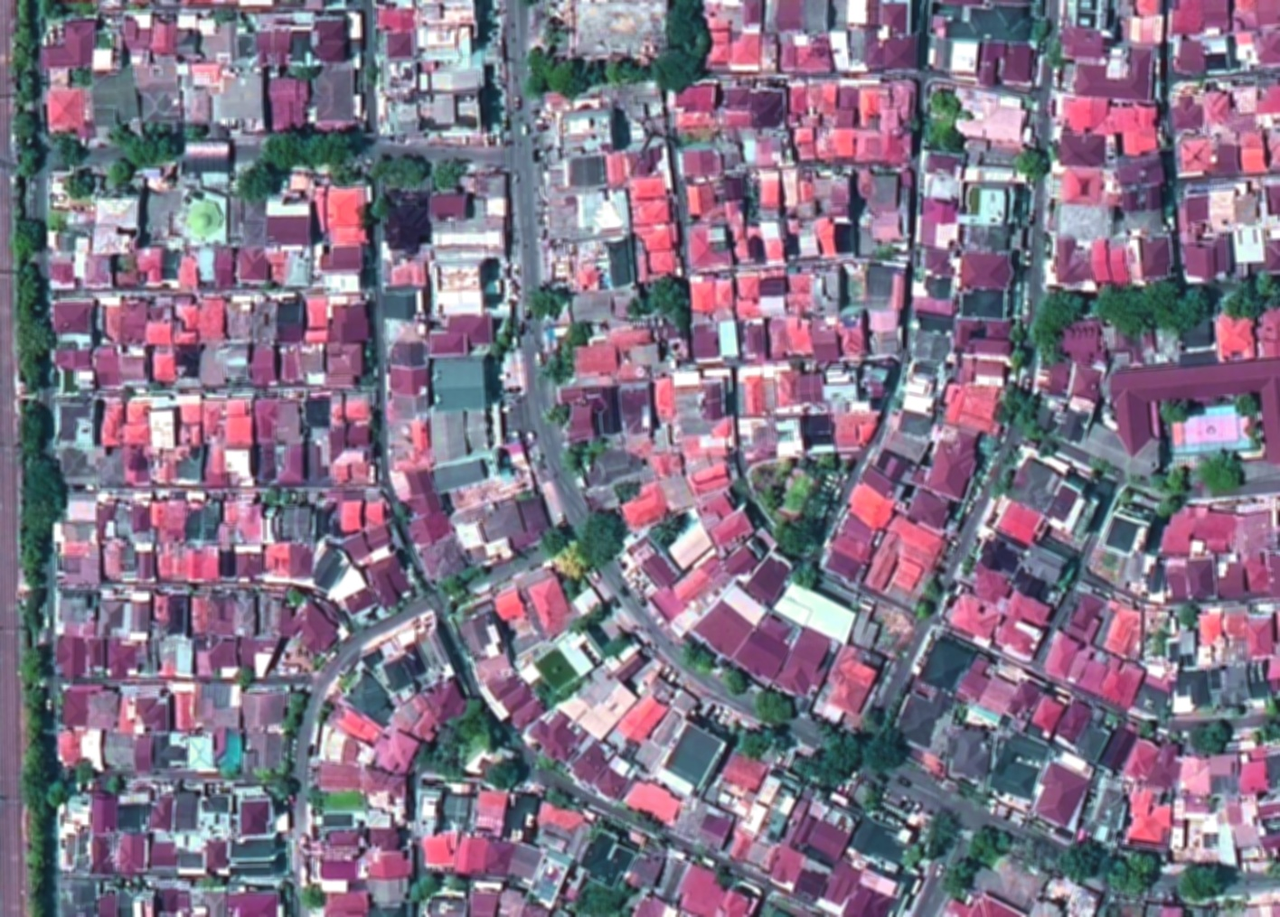building: (1109, 357, 1280, 464), (785, 74, 916, 166), (785, 75, 916, 166), (1168, 75, 1280, 180), (786, 77, 916, 166), (788, 80, 916, 165), (789, 80, 916, 165), (790, 80, 916, 165), (355, 614, 460, 709), (860, 510, 950, 610), (380, 667, 474, 758), (1074, 403, 1170, 491), (426, 170, 512, 264), (556, 660, 641, 745), (1058, 93, 1162, 156), (567, 0, 668, 64), (771, 576, 862, 646), (1083, 520, 1163, 598), (1027, 746, 1099, 832), (734, 768, 805, 855), (659, 714, 732, 794), (475, 661, 548, 738), (972, 845, 1051, 916), (983, 727, 1055, 804), (818, 507, 888, 586), (732, 610, 804, 686), (565, 737, 641, 809), (817, 641, 886, 720), (576, 434, 649, 507), (886, 677, 956, 753), (1172, 660, 1272, 713), (551, 94, 631, 158), (574, 820, 644, 893), (418, 828, 514, 881), (773, 625, 839, 702), (381, 408, 437, 496), (951, 85, 1032, 145), (1175, 129, 1268, 181), (788, 800, 858, 869), (1003, 445, 1071, 516), (847, 804, 918, 872), (917, 148, 964, 250), (705, 749, 771, 820), (1078, 771, 1138, 848), (452, 601, 515, 674), (914, 629, 980, 698), (1169, 807, 1244, 867), (525, 703, 592, 770), (1160, 503, 1239, 559), (924, 426, 982, 502), (813, 356, 874, 428), (53, 502, 103, 589), (931, 1, 1034, 43), (1074, 47, 1154, 101), (691, 597, 757, 662), (284, 594, 349, 660), (656, 508, 721, 573), (521, 566, 578, 639), (880, 512, 948, 572), (1093, 596, 1154, 662), (567, 236, 636, 294), (741, 545, 803, 609), (1177, 217, 1237, 283), (942, 588, 1007, 648), (1052, 479, 1111, 544), (132, 55, 185, 127), (1060, 0, 1121, 62), (1098, 497, 1157, 561), (84, 66, 142, 130), (669, 551, 731, 610), (625, 532, 684, 594), (417, 0, 475, 62), (343, 669, 405, 727), (942, 721, 997, 786), (614, 688, 672, 749), (388, 460, 443, 523), (1125, 783, 1177, 849), (298, 538, 356, 597), (672, 861, 733, 917), (414, 529, 473, 586), (896, 362, 940, 438), (841, 479, 900, 535), (401, 488, 455, 549), (850, 25, 920, 72), (212, 70, 264, 133), (623, 775, 686, 827), (431, 355, 488, 412), (553, 621, 609, 679), (615, 479, 674, 534), (362, 551, 416, 611), (1060, 584, 1111, 646), (525, 846, 574, 910), (309, 61, 356, 127), (943, 381, 1000, 435), (432, 261, 486, 318), (426, 313, 494, 358), (1071, 706, 1122, 765), (91, 192, 139, 254), (1025, 878, 1101, 917), (327, 699, 385, 750), (721, 83, 785, 129), (384, 191, 431, 253), (684, 456, 740, 508), (1097, 655, 1148, 712), (974, 530, 1029, 582), (425, 404, 471, 466), (668, 367, 709, 436), (671, 80, 724, 133), (304, 719, 357, 772), (1095, 718, 1143, 776), (179, 192, 230, 246), (990, 497, 1045, 547), (990, 612, 1045, 662), (816, 857, 866, 912), (118, 684, 171, 735), (1044, 469, 1091, 526), (1180, 751, 1239, 796), (228, 836, 287, 881), (43, 17, 95, 68), (1129, 674, 1179, 727), (720, 533, 773, 583), (721, 128, 787, 168), (650, 848, 697, 904), (1171, 35, 1234, 76), (429, 454, 492, 495), (1146, 738, 1191, 795), (325, 186, 367, 247), (964, 562, 1016, 611), (1018, 539, 1070, 588), (602, 637, 654, 686), (1037, 629, 1084, 683), (1054, 393, 1100, 448), (954, 319, 1014, 361), (977, 42, 1034, 86), (904, 485, 955, 534), (974, 670, 1022, 722), (477, 496, 527, 545), (720, 580, 771, 628), (719, 749, 771, 796), (499, 788, 542, 844), (174, 297, 225, 344), (268, 74, 310, 130), (326, 562, 373, 612), (686, 220, 732, 271), (1026, 687, 1071, 739), (180, 494, 225, 546), (242, 729, 287, 781), (625, 843, 670, 895), (194, 682, 241, 731), (1054, 202, 1113, 241), (266, 197, 312, 247), (693, 805, 739, 855), (145, 188, 186, 244), (1052, 696, 1097, 747), (1120, 734, 1164, 786), (955, 652, 998, 705), (102, 539, 155, 582), (534, 800, 588, 842), (779, 33, 834, 74), (736, 414, 781, 464), (669, 793, 713, 844), (706, 507, 756, 551), (764, 841, 808, 891), (1004, 673, 1047, 724), (737, 365, 778, 418), (240, 689, 290, 732), (959, 251, 1014, 290), (779, 34, 834, 73), (1003, 589, 1054, 631), (1170, 0, 1231, 35), (1056, 128, 1108, 169), (470, 786, 511, 838), (1061, 318, 1105, 366), (882, 422, 931, 465), (1095, 322, 1146, 363), (617, 381, 655, 436), (53, 589, 96, 637), (882, 423, 931, 465), (263, 541, 313, 582), (310, 13, 350, 64), (588, 762, 634, 806), (436, 788, 479, 835), (56, 636, 104, 678), (1076, 648, 1117, 697), (504, 840, 545, 889), (515, 488, 554, 539), (104, 298, 148, 343), (55, 400, 94, 449), (1236, 509, 1280, 552), (690, 275, 734, 318), (103, 638, 147, 681), (697, 487, 742, 529), (45, 87, 87, 132), (1115, 151, 1166, 188), (867, 35, 918, 72), (1145, 327, 1186, 373), (841, 882, 894, 917), (912, 277, 955, 320), (276, 501, 318, 545), (657, 470, 698, 515), (1216, 315, 1256, 361), (832, 411, 878, 451), (947, 894, 1027, 917), (230, 197, 266, 248), (412, 781, 444, 838), (329, 301, 371, 344), (325, 343, 366, 387), (858, 464, 903, 504), (199, 21, 239, 66), (1089, 238, 1128, 284), (384, 315, 427, 356), (234, 635, 275, 678), (1212, 556, 1250, 602), (182, 139, 233, 173), (648, 582, 689, 624), (136, 245, 178, 286), (148, 732, 190, 773), (1055, 238, 1092, 284), (490, 586, 530, 628), (149, 499, 187, 543), (757, 215, 789, 267), (255, 593, 290, 640), (154, 636, 193, 678), (909, 328, 953, 365), (56, 448, 101, 484), (57, 878, 98, 917), (152, 593, 189, 636), (732, 272, 765, 320), (749, 85, 785, 129), (576, 340, 620, 376), (836, 315, 871, 360), (674, 82, 720, 116), (599, 263, 638, 303), (1168, 92, 1206, 133), (1062, 167, 1104, 204), (331, 447, 373, 484), (800, 411, 836, 454), (867, 170, 902, 214), (226, 889, 281, 917), (960, 288, 1008, 320), (1139, 235, 1173, 280), (857, 865, 902, 899), (809, 318, 842, 364), (626, 143, 667, 180), (224, 398, 253, 450), (606, 238, 636, 288), (227, 836, 277, 866), (86, 687, 120, 731), (1102, 237, 1133, 285), (667, 602, 707, 639), (380, 735, 417, 775), (591, 190, 627, 231), (1186, 555, 1218, 601), (58, 684, 90, 730), (999, 43, 1034, 85), (385, 256, 427, 291), (1144, 896, 1214, 917), (1237, 82, 1280, 116), (1233, 0, 1280, 31), (608, 322, 655, 353), (1178, 137, 1216, 175), (792, 865, 830, 903), (1176, 670, 1213, 709), (1177, 318, 1218, 353), (462, 407, 493, 453), (60, 829, 91, 875), (102, 729, 135, 772), (1069, 363, 1104, 403), (53, 300, 94, 334), (388, 389, 429, 423), (565, 155, 606, 189), (238, 797, 272, 838), (680, 146, 722, 179), (255, 28, 291, 66), (194, 298, 225, 342), (964, 224, 1011, 253), (867, 263, 896, 310), (734, 272, 763, 319), (1183, 240, 1217, 280), (207, 637, 240, 678), (319, 243, 364, 273), (275, 298, 305, 343), (1120, 126, 1162, 158), (117, 345, 148, 388), (1234, 29, 1268, 68), (948, 40, 980, 81), (148, 16, 180, 57), (1239, 750, 1268, 795), (1247, 614, 1276, 659), (317, 763, 362, 792), (123, 597, 152, 642), (571, 291, 613, 322), (681, 432, 729, 459), (1233, 226, 1267, 264), (172, 788, 200, 834), (422, 889, 468, 917), (858, 361, 891, 400), (1243, 551, 1272, 595), (360, 766, 404, 795), (431, 66, 480, 92), (631, 196, 672, 227), (1208, 185, 1236, 230), (1065, 643, 1095, 685), (249, 299, 277, 344), (1172, 37, 1206, 74), (870, 210, 904, 247), (685, 181, 718, 219), (729, 33, 762, 71), (625, 340, 663, 373), (341, 586, 379, 619), (1121, 184, 1164, 213), (117, 833, 146, 876), (1164, 557, 1191, 603), (420, 0, 474, 23), (325, 889, 369, 917), (716, 889, 760, 917), (275, 443, 305, 484), (218, 729, 243, 778), (775, 416, 804, 458), (275, 399, 302, 444), (1180, 756, 1211, 795), (249, 344, 277, 387), (298, 343, 326, 386), (964, 163, 1024, 183), (652, 375, 677, 423), (598, 386, 622, 436), (369, 851, 410, 880), (1258, 797, 1280, 851), (186, 546, 219, 582), (153, 886, 191, 917), (1124, 210, 1166, 238), (785, 315, 813, 357), (123, 444, 151, 486), (690, 322, 720, 361), (91, 791, 117, 836), (709, 16, 731, 69), (207, 594, 234, 637), (388, 367, 428, 396), (383, 29, 418, 62), (232, 591, 257, 637), (640, 222, 677, 253), (759, 275, 786, 317), (148, 790, 175, 832), (566, 402, 595, 441), (376, 3, 415, 32), (209, 638, 238, 677), (305, 296, 329, 343), (172, 686, 196, 733), (1231, 818, 1264, 852), (881, 0, 913, 35), (96, 598, 124, 638), (79, 729, 105, 772), (430, 189, 466, 220), (740, 801, 771, 837), (182, 86, 212, 123), (775, 368, 802, 409), (94, 346, 121, 387), (367, 879, 408, 906), (629, 173, 667, 202), (1258, 801, 1280, 851), (722, 199, 747, 243), (787, 273, 813, 315), (199, 344, 225, 386), (360, 522, 395, 553), (649, 449, 684, 480), (420, 95, 456, 125), (254, 398, 278, 443), (1258, 308, 1280, 357), (971, 358, 1008, 387), (186, 734, 215, 771), (149, 408, 175, 449), (236, 503, 262, 544), (100, 401, 123, 447), (1130, 15, 1163, 47), (124, 401, 148, 445), (454, 519, 486, 552), (237, 248, 268, 282), (97, 448, 124, 487), (728, 827, 757, 863), (766, 317, 790, 360), (322, 790, 365, 814), (226, 301, 251, 342), (669, 686, 700, 719), (467, 887, 501, 917), (604, 150, 630, 189), (136, 247, 162, 286), (151, 346, 177, 385), (743, 320, 767, 362), (717, 317, 741, 359), (175, 343, 203, 379), (1234, 189, 1261, 226), (288, 29, 315, 66), (702, 379, 725, 422), (829, 29, 852, 72), (285, 248, 311, 286), (646, 248, 680, 277), (1204, 89, 1232, 124), (382, 292, 417, 320), (149, 835, 177, 870), (1255, 27, 1280, 66), (175, 448, 202, 484), (204, 443, 226, 487), (455, 93, 481, 130), (90, 835, 114, 875), (123, 16, 151, 50), (338, 499, 363, 537), (797, 370, 824, 405), (363, 497, 390, 532), (1245, 890, 1280, 917), (980, 188, 1006, 224), (1046, 360, 1072, 396), (117, 803, 148, 833), (870, 329, 902, 358), (389, 342, 426, 367), (224, 343, 249, 380), (277, 603, 302, 640), (823, 270, 843, 316), (200, 399, 223, 439), (1214, 141, 1241, 175), (60, 796, 90, 826), (758, 170, 781, 209), (855, 131, 883, 163), (65, 493, 97, 521), (802, 0, 829, 33), (85, 254, 111, 288), (781, 167, 802, 209), (214, 247, 235, 289), (57, 730, 82, 765), (735, 0, 764, 30), (483, 536, 514, 564), (729, 227, 753, 263), (776, 0, 803, 32), (816, 217, 837, 258), (96, 501, 118, 540), (54, 346, 91, 369), (923, 198, 957, 223), (901, 391, 935, 416), (1183, 794, 1217, 819), (367, 826, 401, 851), (1199, 611, 1223, 646), (394, 101, 421, 132), (344, 392, 371, 423), (319, 859, 357, 881), (797, 179, 817, 220), (499, 888, 527, 917), (224, 448, 251, 478), (305, 397, 331, 428), (868, 308, 900, 333), (860, 85, 879, 127), (280, 346, 301, 383), (177, 393, 202, 424), (797, 225, 820, 258), (326, 829, 361, 850), (925, 248, 953, 274), (257, 443, 276, 481), (1185, 194, 1209, 224), (195, 248, 216, 282), (60, 208, 92, 230), (346, 422, 372, 449), (236, 553, 263, 579), (1029, 897, 1064, 917), (117, 888, 141, 917), (205, 841, 228, 871), (813, 173, 831, 211), (152, 452, 174, 483), (176, 28, 201, 55), (146, 320, 173, 345), (48, 229, 76, 253), (924, 276, 953, 299), (49, 262, 74, 288), (1223, 613, 1247, 640), (119, 696, 136, 733), (1170, 819, 1189, 852), (388, 62, 413, 87), (178, 851, 205, 874), (835, 223, 855, 254), (1266, 746, 1280, 790), (833, 129, 855, 157), (1179, 629, 1196, 665), (722, 175, 745, 201), (577, 194, 594, 229), (746, 235, 767, 263), (204, 889, 225, 917), (330, 423, 345, 462), (131, 504, 151, 532), (202, 794, 230, 814), (1267, 128, 1280, 171), (1264, 239, 1280, 273), (1240, 796, 1258, 826), (1109, 501, 1132, 524), (760, 277, 786, 297), (784, 232, 801, 261), (366, 810, 393, 828), (847, 0, 867, 24), (1226, 799, 1243, 827), (859, 225, 873, 258), (1266, 184, 1280, 215), (1136, 0, 1162, 16), (222, 500, 238, 525), (331, 465, 350, 484), (926, 45, 942, 67), (390, 395, 414, 404), (1139, 522, 1151, 534), (643, 102, 651, 117), (136, 737, 139, 771), (390, 356, 400, 365), (357, 423, 368, 429), (361, 395, 368, 403), (332, 424, 339, 432)
tree: (793, 712, 879, 803), (1136, 271, 1223, 339), (565, 502, 638, 574), (442, 693, 512, 765), (1088, 276, 1162, 340), (645, 41, 712, 100), (1054, 830, 1116, 893), (854, 721, 916, 781), (661, 0, 718, 61), (413, 729, 474, 785), (1102, 845, 1164, 900), (230, 154, 293, 208), (298, 124, 367, 173), (18, 452, 66, 521), (123, 124, 188, 174), (1218, 276, 1274, 333), (1025, 308, 1074, 367), (640, 270, 695, 322), (5, 527, 56, 579), (1012, 830, 1065, 880), (1194, 449, 1248, 497), (921, 807, 964, 864), (964, 821, 1013, 871), (1039, 282, 1090, 330), (572, 880, 638, 917), (673, 634, 726, 680), (6, 261, 48, 319), (434, 563, 493, 603), (748, 460, 793, 512), (1149, 459, 1198, 506), (1187, 716, 1239, 760), (537, 344, 584, 392), (792, 482, 839, 530), (996, 383, 1043, 431), (1178, 863, 1235, 902), (369, 154, 432, 189), (263, 128, 314, 170), (928, 118, 974, 164), (13, 499, 60, 544), (534, 517, 581, 562), (18, 400, 54, 458), (940, 854, 981, 903), (13, 311, 56, 357), (545, 57, 593, 98), (574, 597, 622, 638), (713, 658, 757, 702), (550, 542, 593, 587), (1010, 142, 1054, 184), (11, 212, 46, 264), (278, 685, 312, 737), (775, 520, 824, 556), (404, 867, 446, 909), (539, 783, 589, 818), (527, 747, 573, 784), (649, 510, 691, 550), (737, 725, 785, 760), (564, 437, 611, 472), (755, 688, 798, 726), (101, 153, 141, 193), (19, 701, 56, 742), (528, 284, 569, 321), (592, 58, 647, 85), (485, 757, 528, 791), (18, 349, 51, 392), (429, 156, 469, 191), (302, 783, 341, 818), (22, 737, 56, 777), (7, 39, 40, 79), (597, 628, 641, 658), (268, 770, 304, 806), (519, 66, 554, 103), (21, 645, 52, 686), (41, 775, 76, 811), (540, 16, 574, 52), (62, 169, 96, 204), (106, 120, 141, 154), (666, 302, 699, 336), (27, 825, 53, 867), (68, 757, 101, 790), (385, 495, 418, 528), (930, 86, 962, 120), (488, 327, 519, 362), (1152, 490, 1187, 521), (23, 770, 53, 806), (529, 678, 561, 711), (1005, 341, 1037, 374), (10, 107, 41, 141), (230, 662, 262, 694), (623, 292, 656, 323), (15, 70, 41, 109), (558, 321, 594, 349), (551, 678, 586, 706), (1159, 398, 1194, 426), (16, 142, 43, 178), (613, 477, 646, 506), (792, 560, 822, 590), (808, 451, 845, 475), (860, 782, 886, 816), (1255, 273, 1280, 308), (544, 399, 574, 428), (299, 883, 330, 911), (861, 705, 889, 736), (438, 872, 475, 895), (14, 16, 39, 50), (255, 763, 295, 784), (207, 1, 241, 25), (1021, 418, 1050, 446), (1029, 16, 1056, 46), (367, 192, 394, 221), (1233, 393, 1263, 419), (328, 164, 363, 186), (199, 868, 231, 892), (40, 0, 73, 23), (528, 47, 556, 74), (15, 0, 43, 26), (286, 63, 322, 83), (1090, 457, 1122, 479), (26, 800, 53, 826), (1007, 321, 1033, 348), (21, 566, 48, 591), (913, 597, 938, 624), (924, 571, 946, 601), (24, 685, 49, 711), (1230, 696, 1256, 721), (875, 241, 904, 263), (1003, 446, 1028, 471), (283, 584, 307, 610), (1257, 718, 1280, 745), (992, 470, 1014, 498), (66, 0, 100, 18), (1048, 37, 1067, 69), (22, 608, 44, 635), (955, 779, 982, 801), (28, 862, 47, 892), (904, 842, 925, 869), (1246, 424, 1267, 451), (316, 699, 337, 725), (1099, 899, 1129, 917), (68, 67, 92, 89), (183, 123, 211, 141), (1177, 606, 1201, 627), (564, 577, 584, 602), (27, 894, 48, 917), (264, 487, 289, 506), (106, 773, 127, 795), (960, 555, 978, 579), (1139, 720, 1158, 739), (1037, 441, 1057, 458), (1121, 487, 1138, 504), (1050, 140, 1063, 162), (1127, 474, 1149, 487), (1268, 857, 1280, 880), (1267, 697, 1280, 715)
